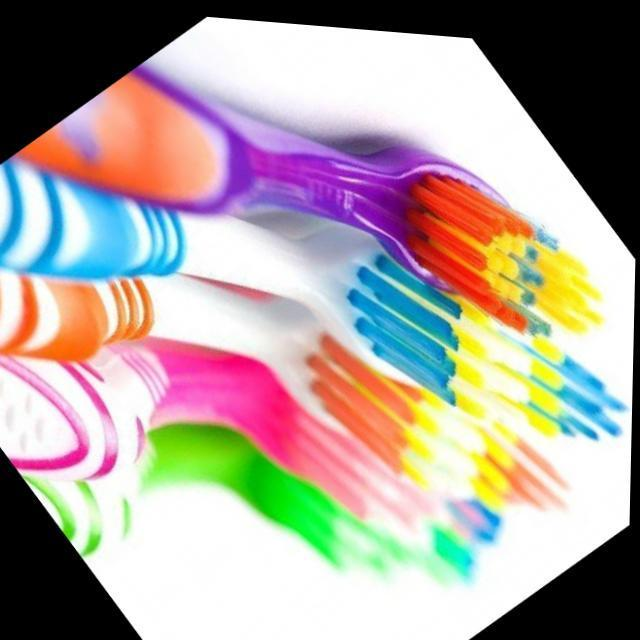toothbrush: (0, 162, 634, 425), (9, 62, 605, 331), (0, 266, 563, 497), (0, 338, 506, 533), (19, 418, 482, 582)
